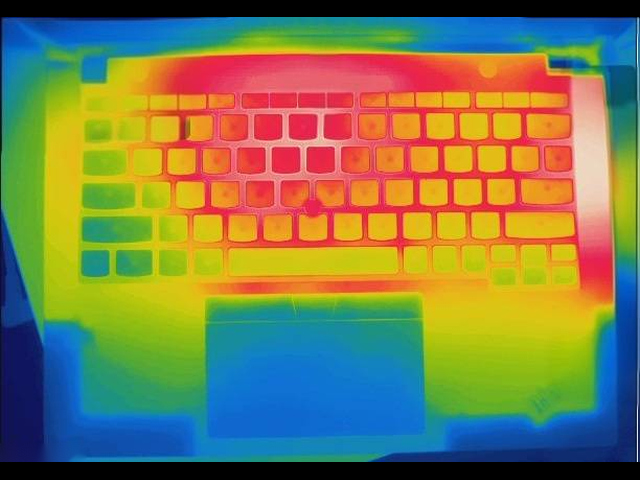c_cover: (44, 75, 620, 461)
